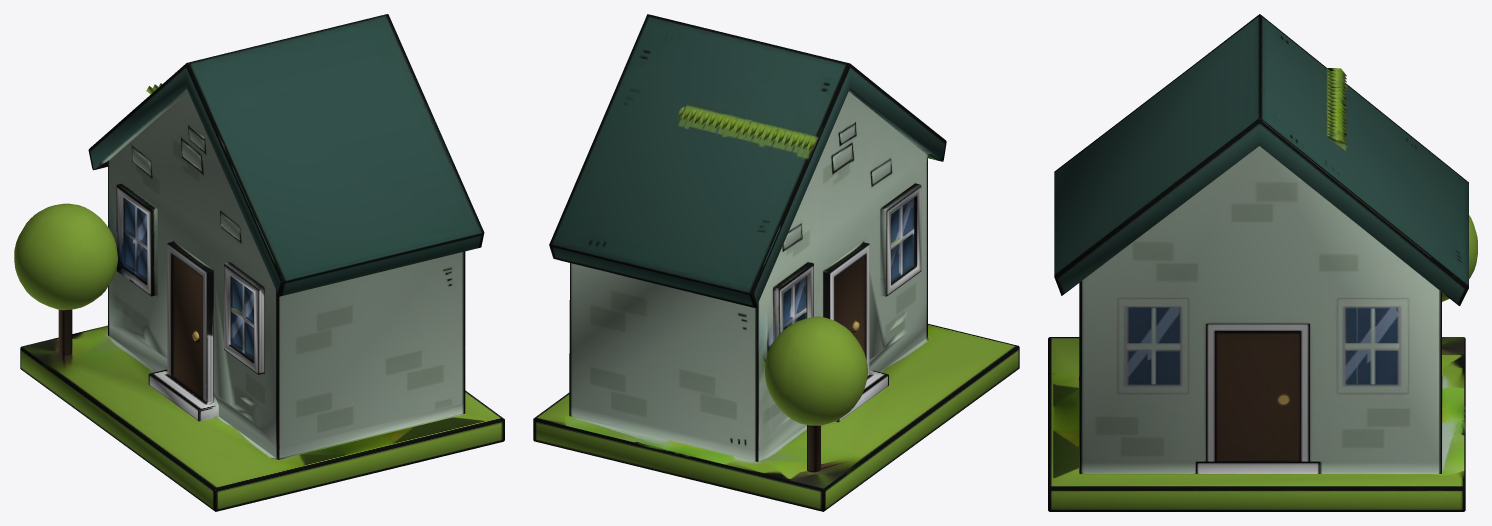
File: rumah.glb
3 renders of one model, left to right at view 1: azimuth 30°, elevation 25°; view 2: azimuth 150°, elevation 25°; view 3: azimuth 270°, elevation 25°, orthographic. The views are drawn at different scales.
Parts seen in each view (by area): view 1: tripo_node_6382f977; view 2: tripo_node_6382f977; view 3: tripo_node_6382f977.
Part boxes in pixels (x1=…): tripo_node_6382f977: x1=14, y1=14, x2=504, y2=511; tripo_node_6382f977: x1=533, y1=14, x2=1019, y2=511; tripo_node_6382f977: x1=1048, y1=14, x2=1477, y2=511.
Bounding box in the file's own units: 0.8834 × 0.9856 × 1.
Materials: 1 (1 with a texture image).
